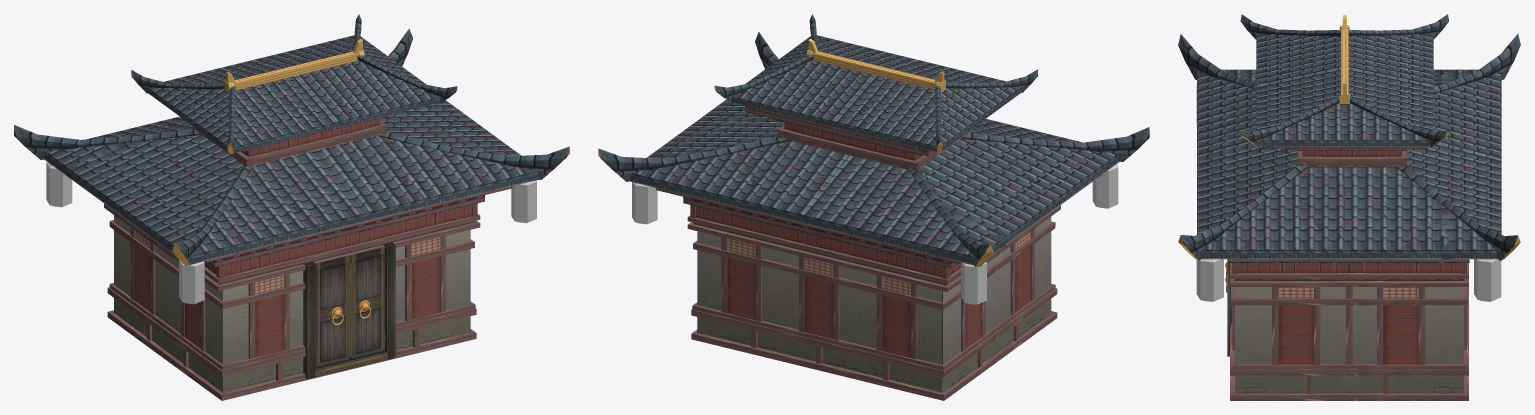
File: mod_zlc_jianzhu042_xy.FBX
3 views of the same model, side by side, from view 1: azimuth 30°, elevation 25°; view 2: azimuth 150°, elevation 25°; view 3: azimuth 270°, elevation 25° (orthographic). The views are drawn at different scales.
Parts seen in each view (by area): view 1: mod_zlc_jianzhu042_xy; view 2: mod_zlc_jianzhu042_xy; view 3: mod_zlc_jianzhu042_xy.
Part boxes in pixels (x1,y1,x2,y2): mod_zlc_jianzhu042_xy: (14,14,569,400); mod_zlc_jianzhu042_xy: (598,14,1149,400); mod_zlc_jianzhu042_xy: (1178,14,1520,400).
Size of the model in its own units: 2182 by 1430 by 1549.
